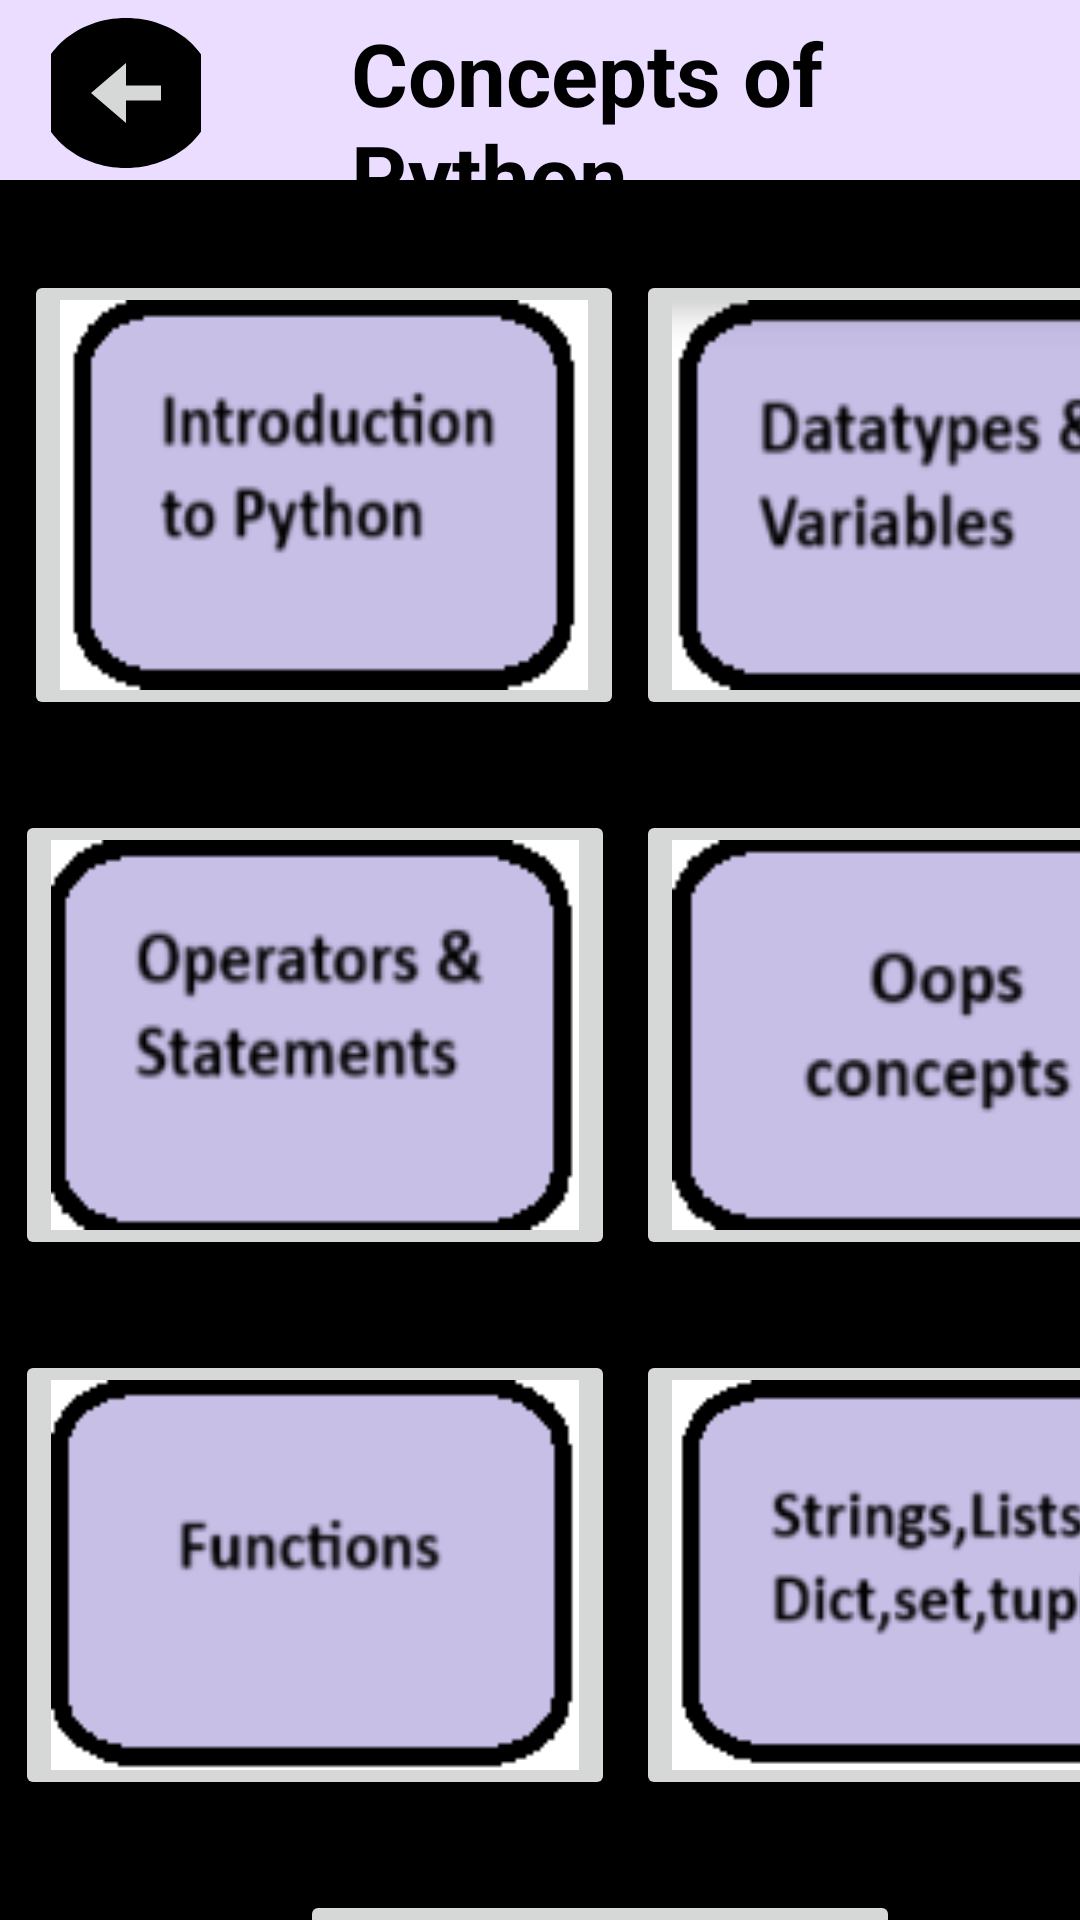

Icon bounding boxes for this 1080 x 1920 phone screenshot, format (x1=x1, y1=y1, x2=x2, y2=y2):
arrow circle left: (x1=51, y1=18, x2=201, y2=168)
